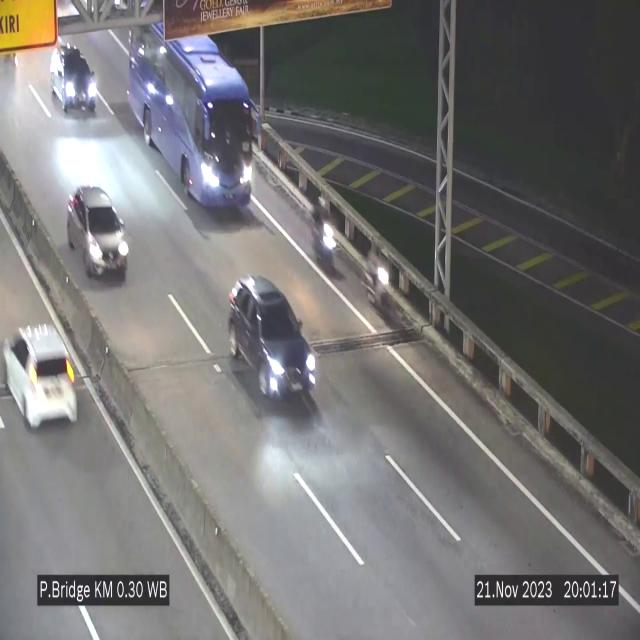Bus: (125, 27, 259, 212)
Car: (227, 279, 319, 410), (0, 314, 88, 437), (67, 186, 128, 279), (51, 41, 97, 115)
Motorcycle: (310, 186, 342, 276), (367, 234, 392, 322)
